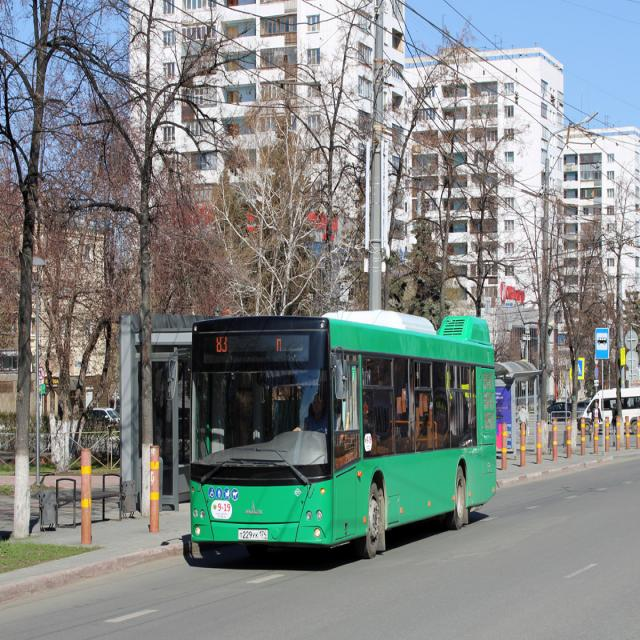number-of-bus: (216, 334, 230, 355)
